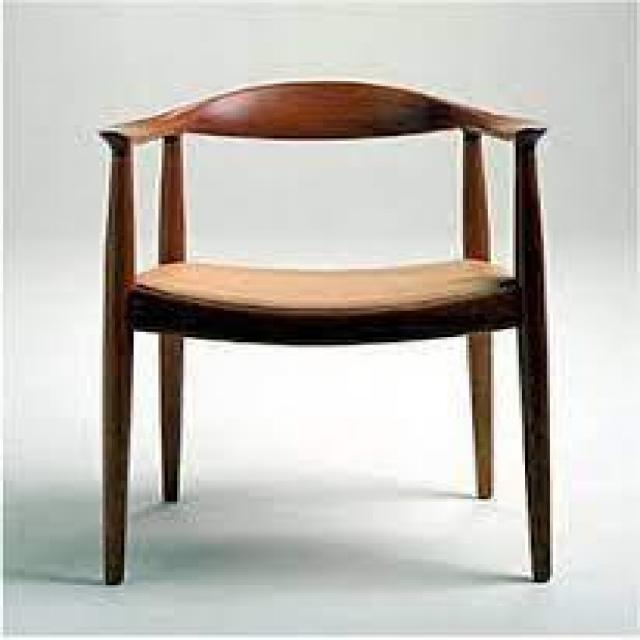chair: (17, 48, 595, 608)
